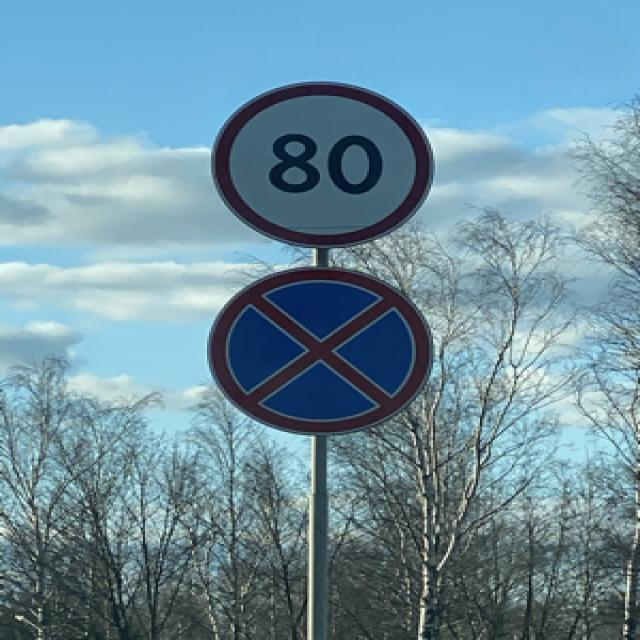speedlimit: (207, 80, 433, 246)
